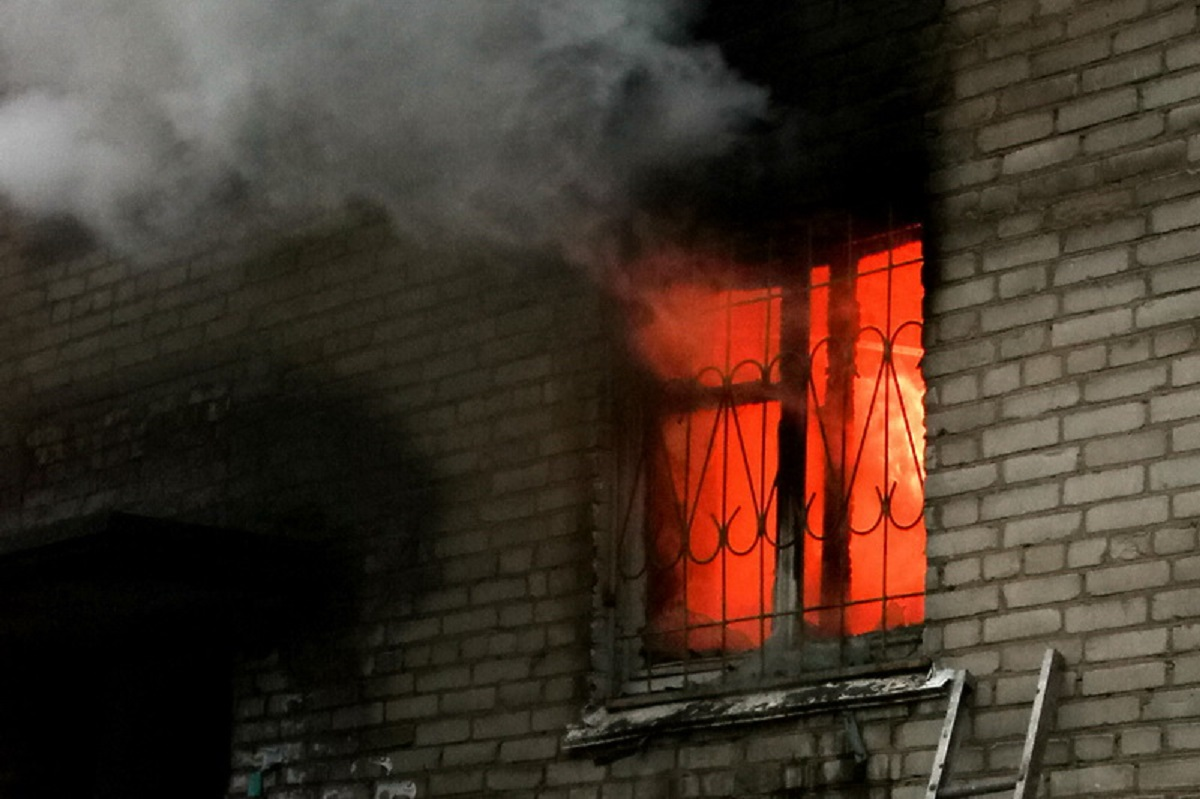fire: (7, 1, 698, 262), (636, 256, 939, 696)
